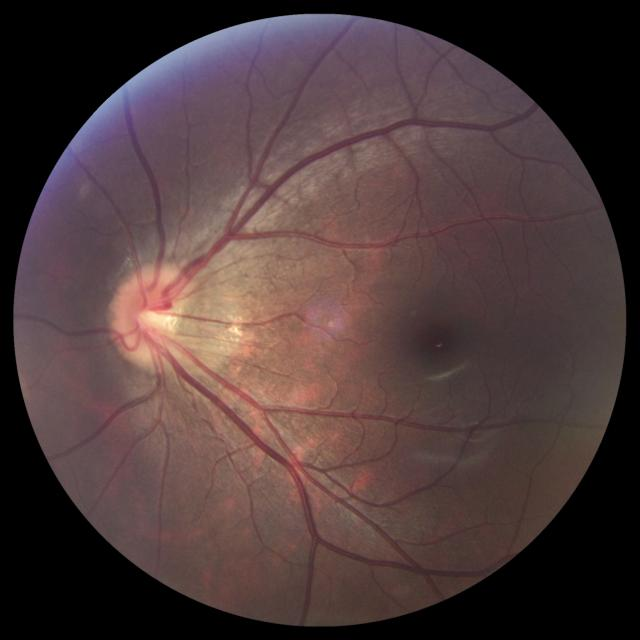OC: (135, 296, 167, 334)
OD: (112, 266, 185, 362)
